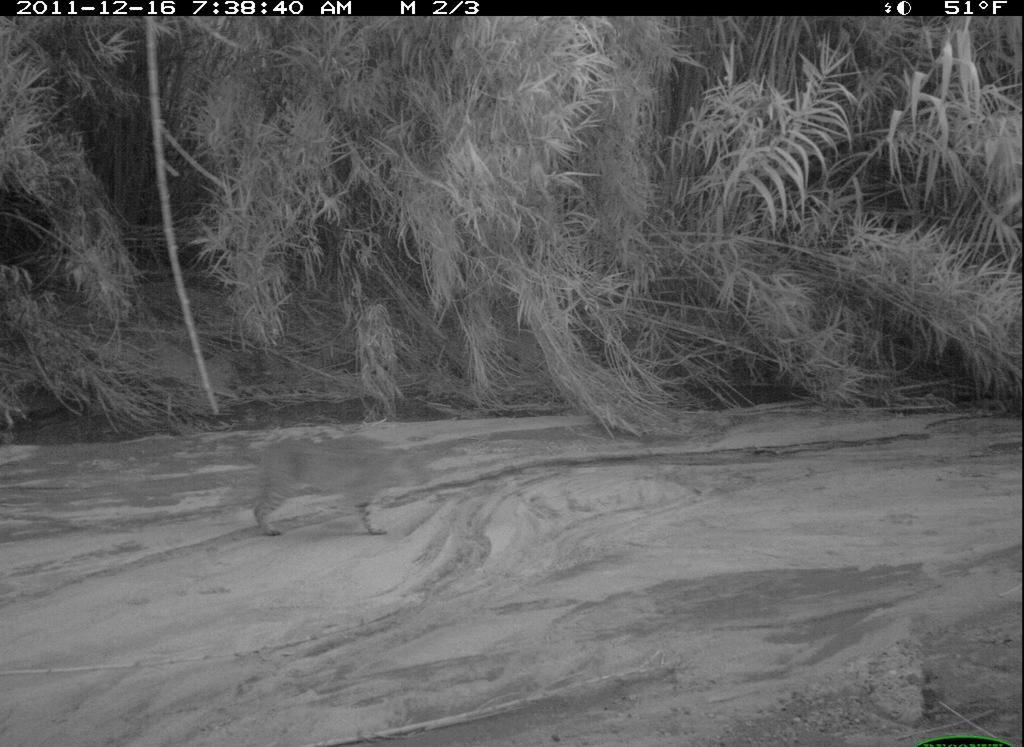bobcat: (230, 437, 438, 542)
